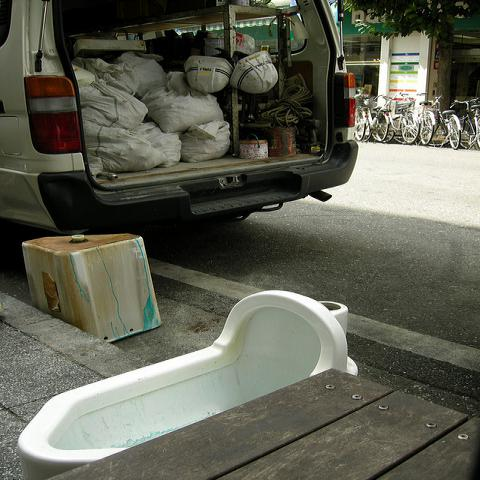truck: (7, 3, 362, 231)
